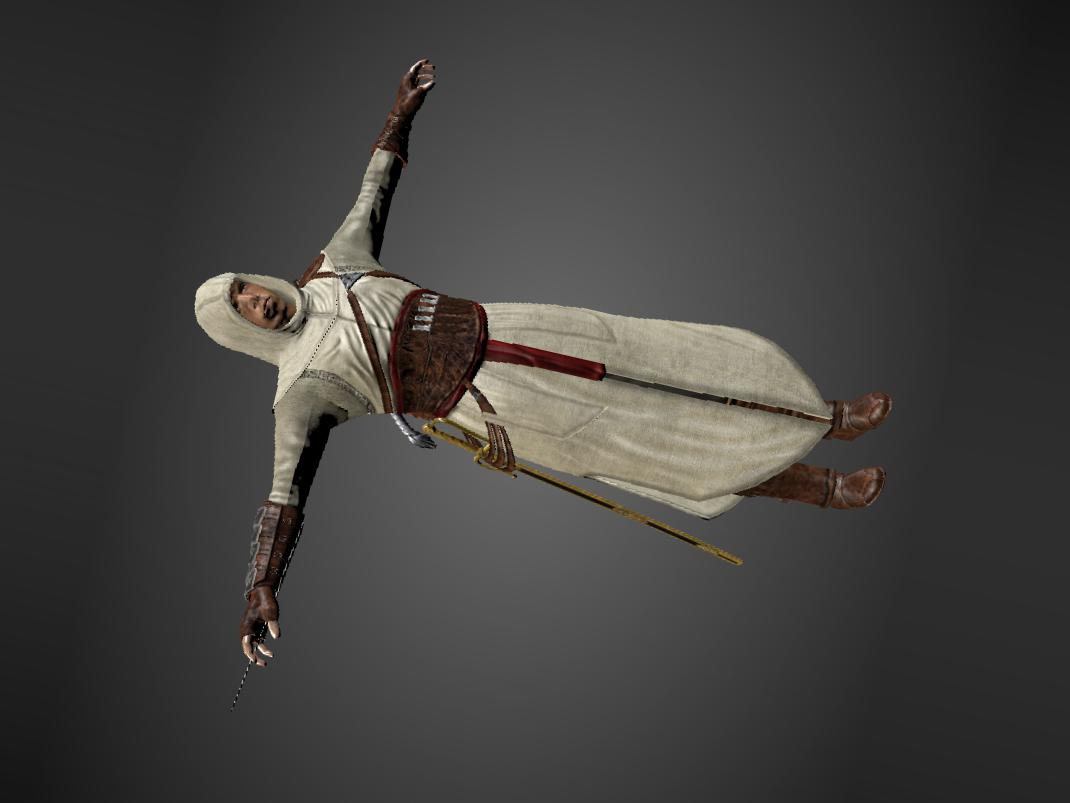clip: (475, 406, 518, 431)
